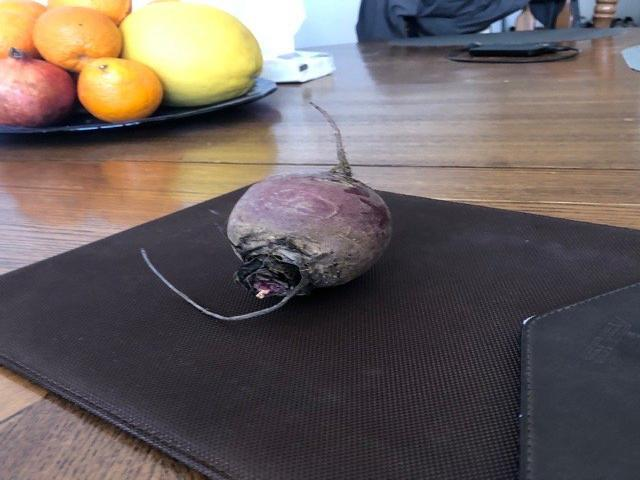beet: (140, 100, 392, 320)
